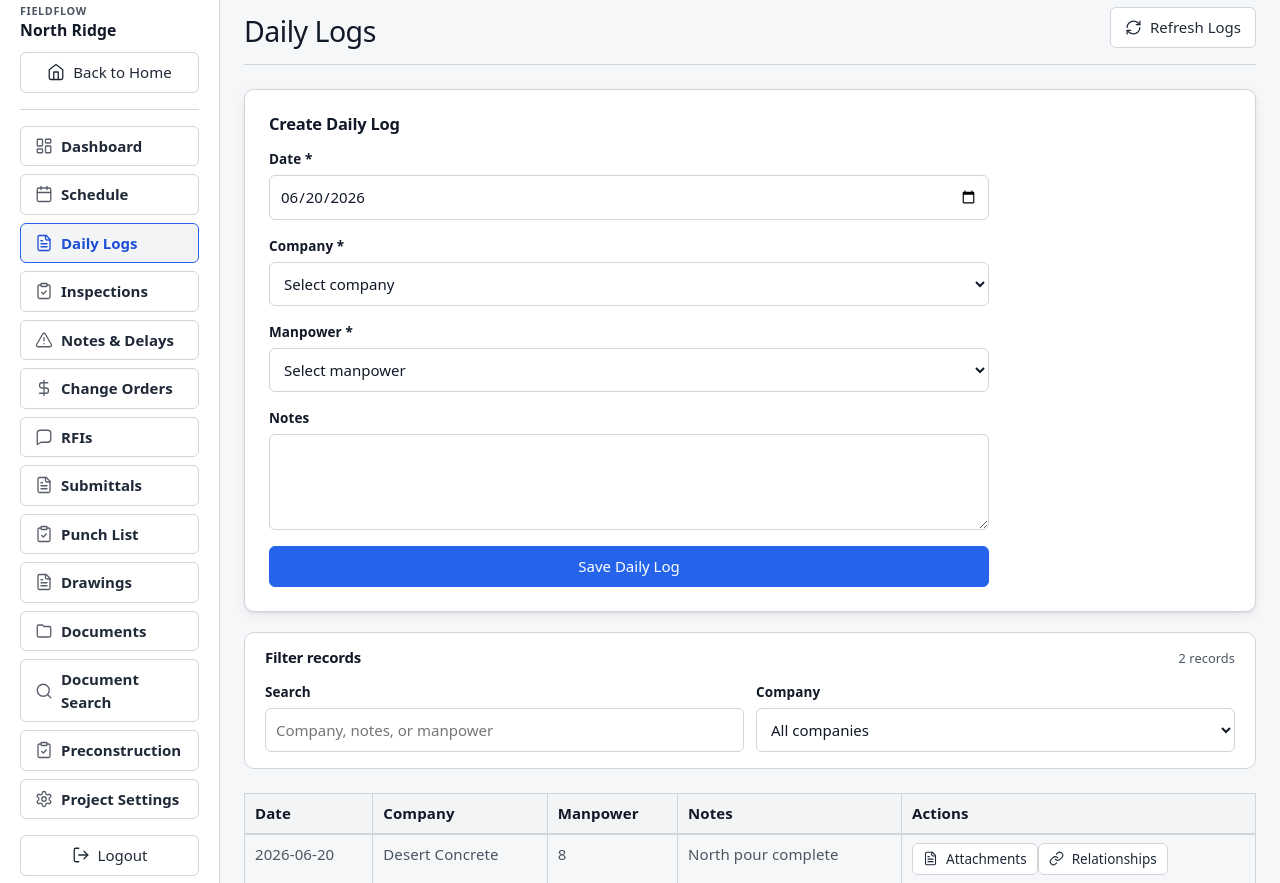
DailyLogsPage › closes the selected log when the project changes
Click the button with aria-label "Attachments for daily log 2026-06-20 for Desert Concrete" at (975, 859), box [912,843,1038,875]
(page scrolled)
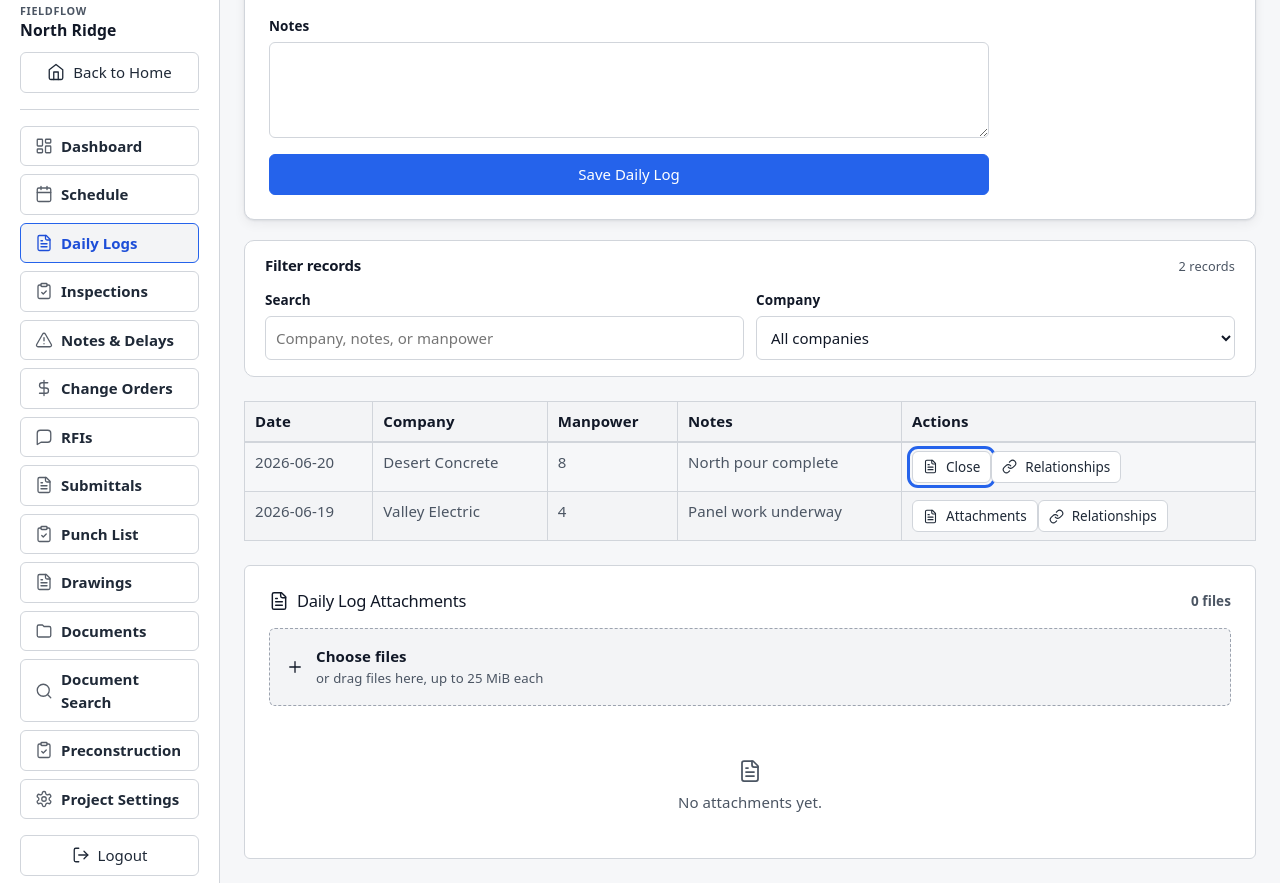
Expected: the heading "Daily Log Attachments" is shown, [297,590,466,612]
